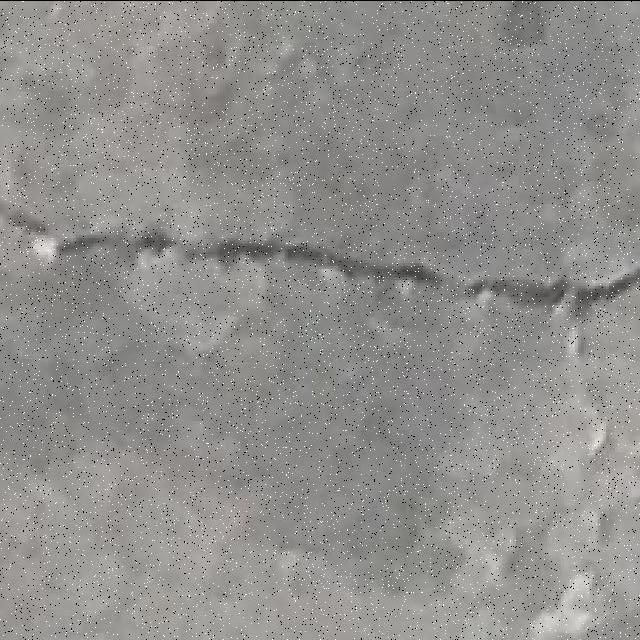crack: (9, 203, 640, 313), (5, 205, 168, 261)
